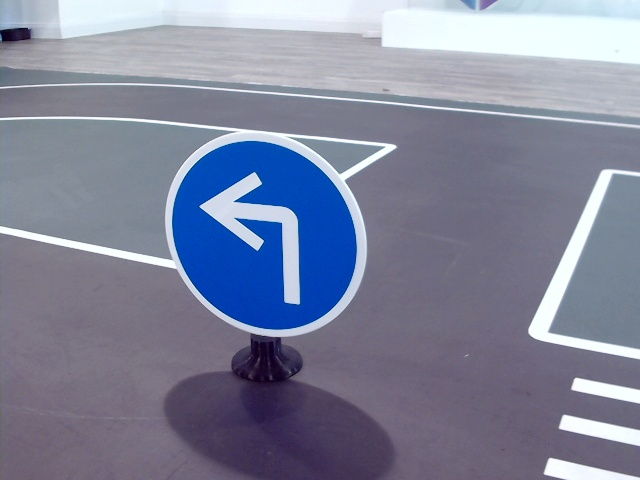turn_left: (194, 163, 316, 302)
